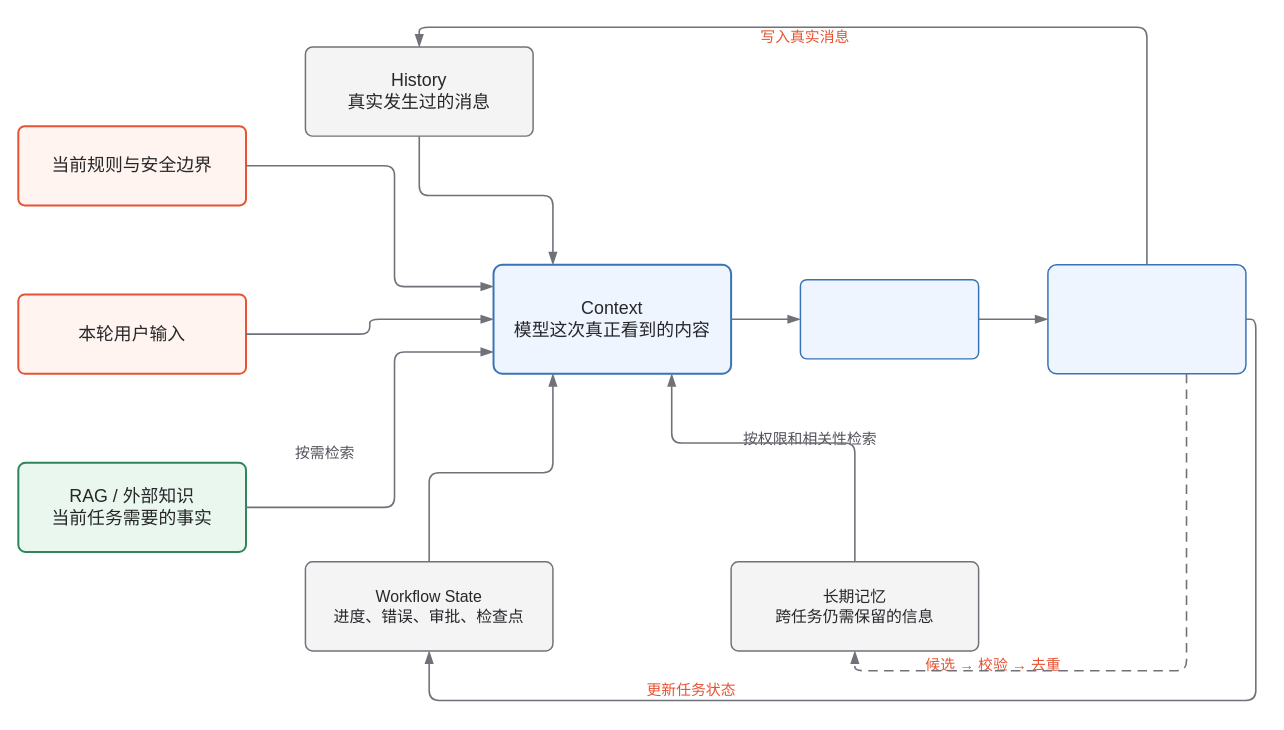
Image size: 1284x730. Some labels were removed from this diagram. The centre of each missing label's shape, as x and y in pixels:
"新消息、工具调用 与真实结果" goes at point 1146,319.
"模型决策" goes at point 889,318.
